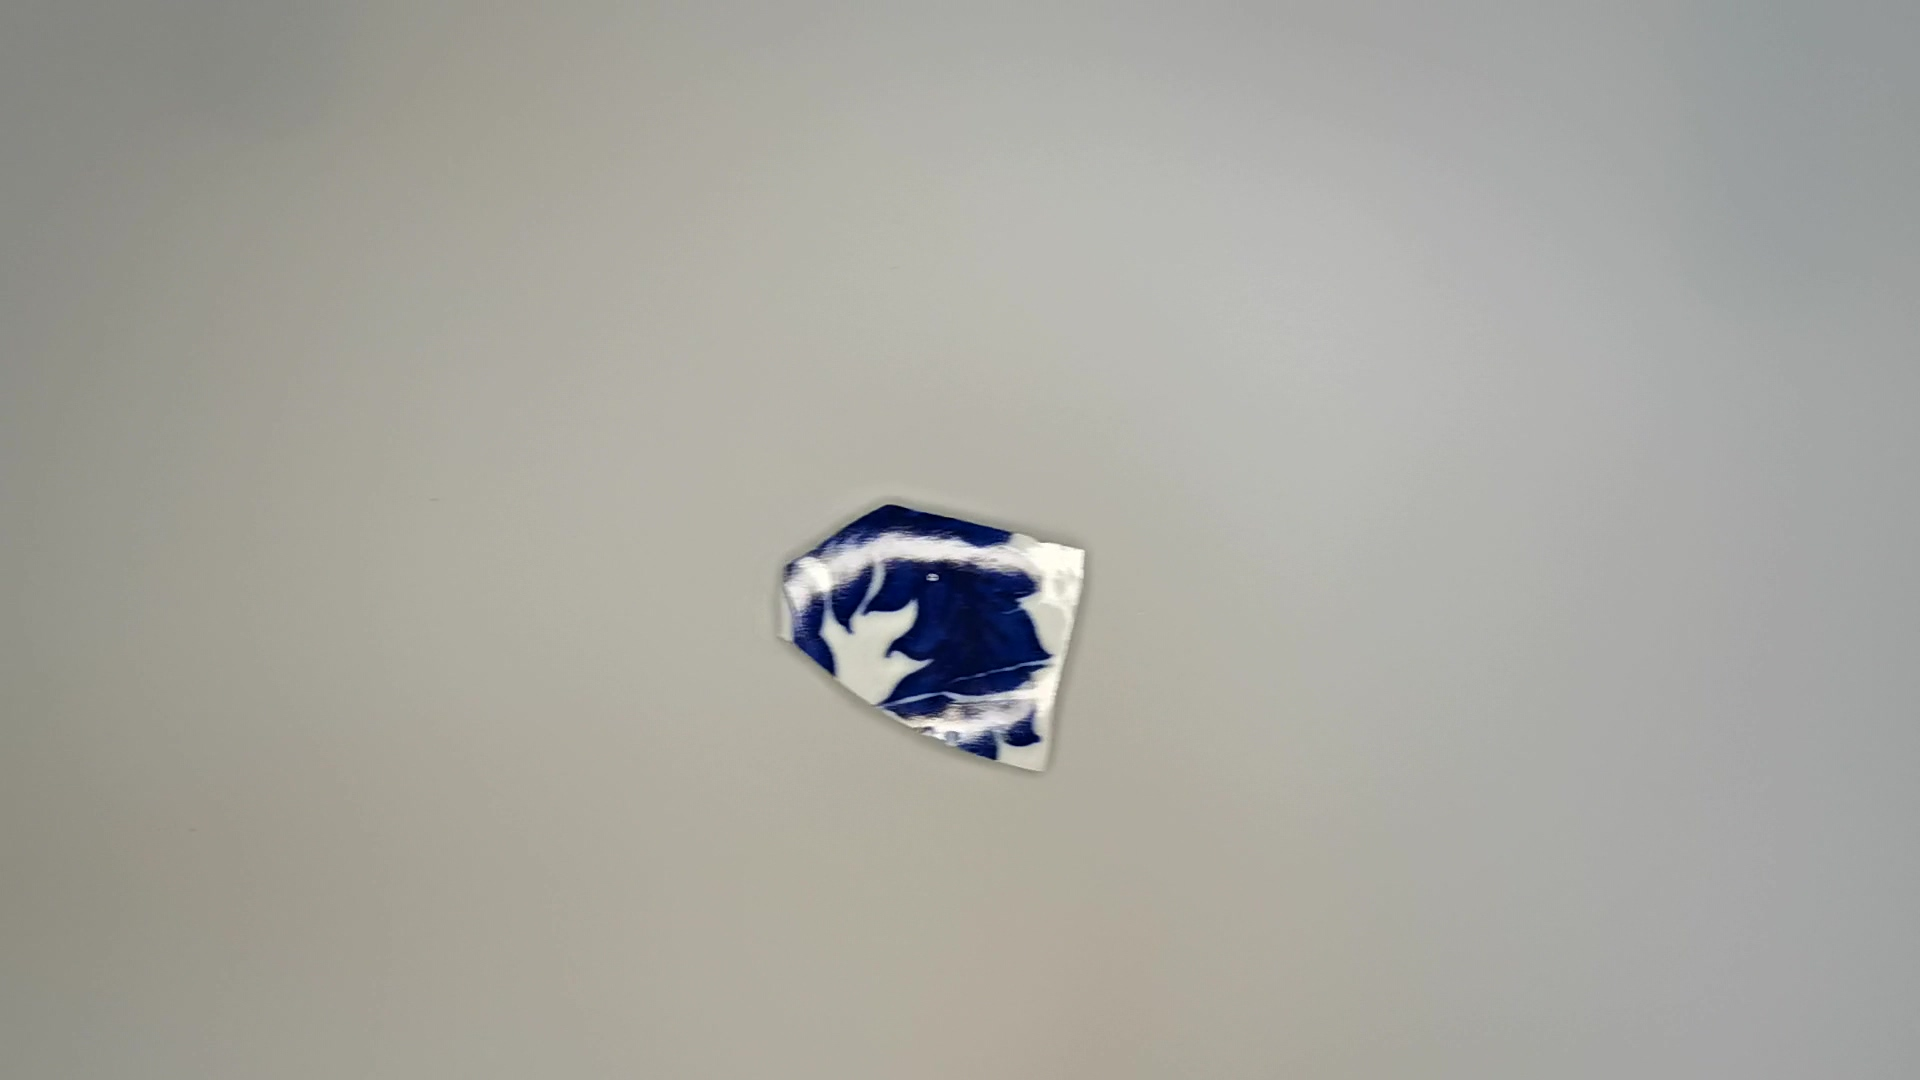ceramic: (778, 500, 1097, 783)
